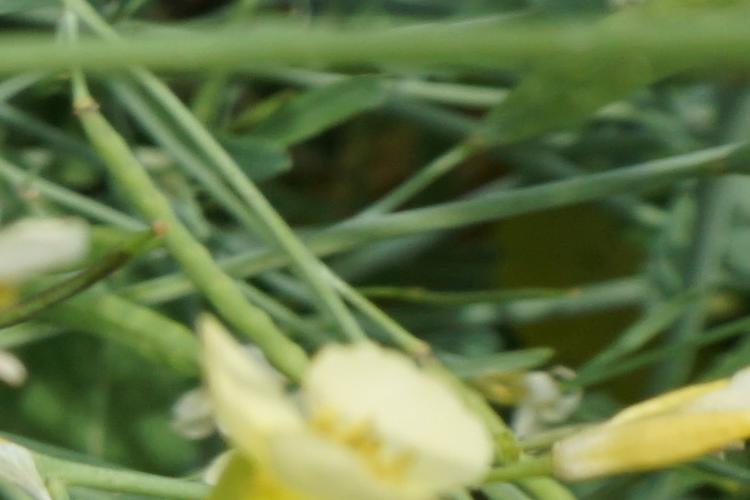pod: (33, 205, 176, 331)
